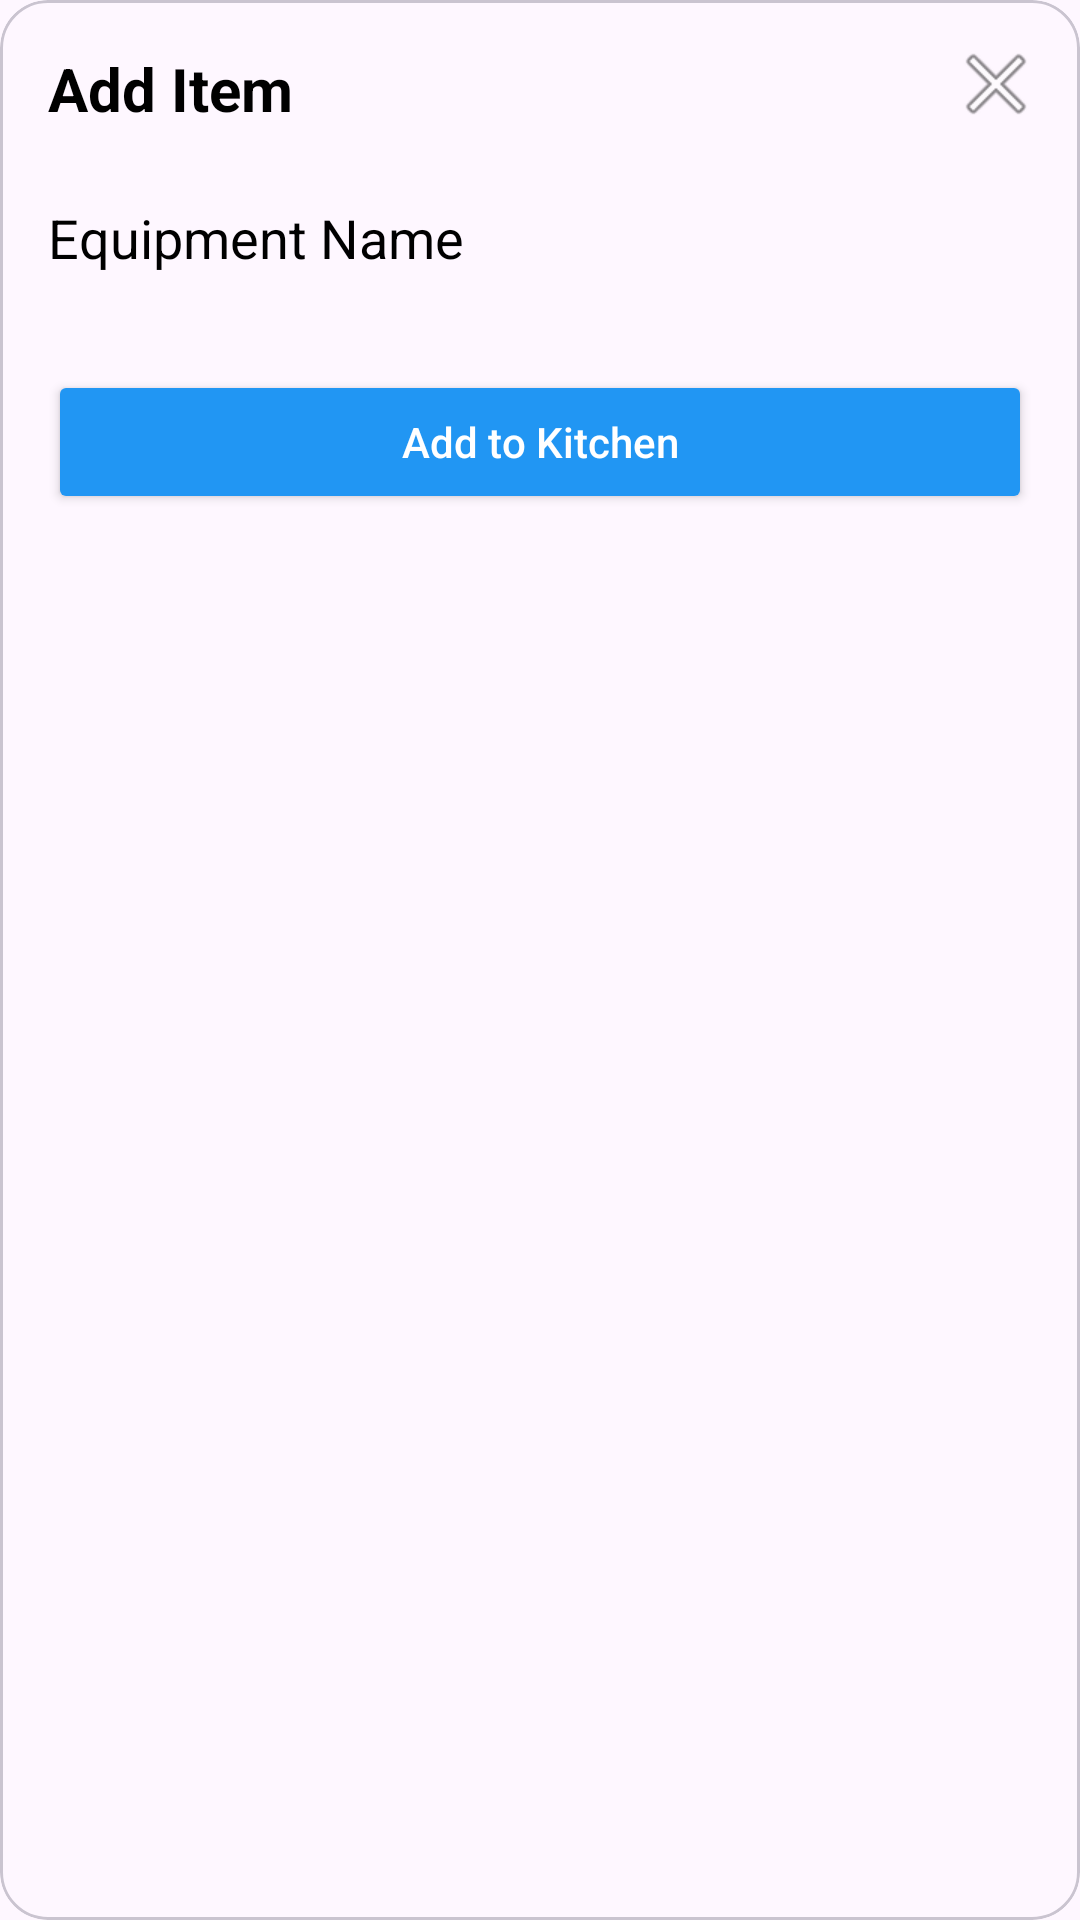

Icons on this 1080px×1920px Android screen, each with its box as (x1, y1, x2, y2):
close clear cancel: (966, 54, 1026, 114)
